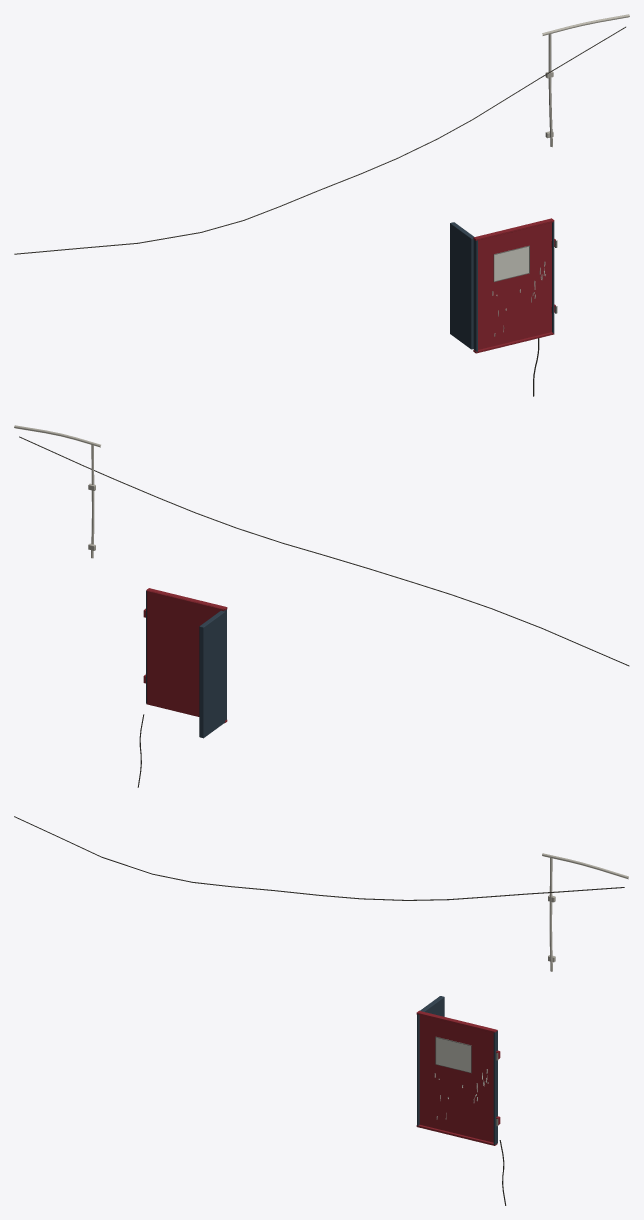
The model's file is govindam-hardware.glb.
The picture shows the model from 3 angles, top to bottom: view 1: azimuth 30°, elevation 25°; view 2: azimuth 150°, elevation 25°; view 3: azimuth 330°, elevation 25°; orthographic projection.
Parts seen in each view (by area): view 1: Observed faded red enamel; inferred reflectance, Cabinet return and seam dark blue grey, Dark weathered service cable, Off-white notice and exposed pale undercoat, Aged pale surface conduit; view 2: Observed faded red enamel; inferred reflectance, Cabinet return and seam dark blue grey, Dark weathered service cable, Aged pale surface conduit; view 3: Observed faded red enamel; inferred reflectance, Cabinet return and seam dark blue grey, Dark weathered service cable, Off-white notice and exposed pale undercoat, Aged pale surface conduit.
Boxes of the visible parts, <box> form: Observed faded red enamel; inferred reflectance: <box>473,218,555,353</box>; Cabinet return and seam dark blue grey: <box>450,221,554,351</box>; Dark weathered service cable: <box>14,26,625,396</box>; Off-white notice and exposed pale undercoat: <box>492,246,545,336</box>; Aged pale surface conduit: <box>542,14,629,147</box>; Observed faded red enamel; inferred reflectance: <box>143,588,227,723</box>; Cabinet return and seam dark blue grey: <box>146,591,226,738</box>; Dark weathered service cable: <box>19,436,629,787</box>; Aged pale surface conduit: <box>14,425,100,558</box>; Observed faded red enamel; inferred reflectance: <box>416,1010,500,1145</box>; Cabinet return and seam dark blue grey: <box>417,996,497,1144</box>; Dark weathered service cable: <box>14,816,624,1205</box>; Off-white notice and exposed pale undercoat: <box>434,1037,488,1119</box>; Aged pale surface conduit: <box>542,853,628,971</box>.
Size of the model in its own units: 3.33 by 1.8 by 0.3015.
